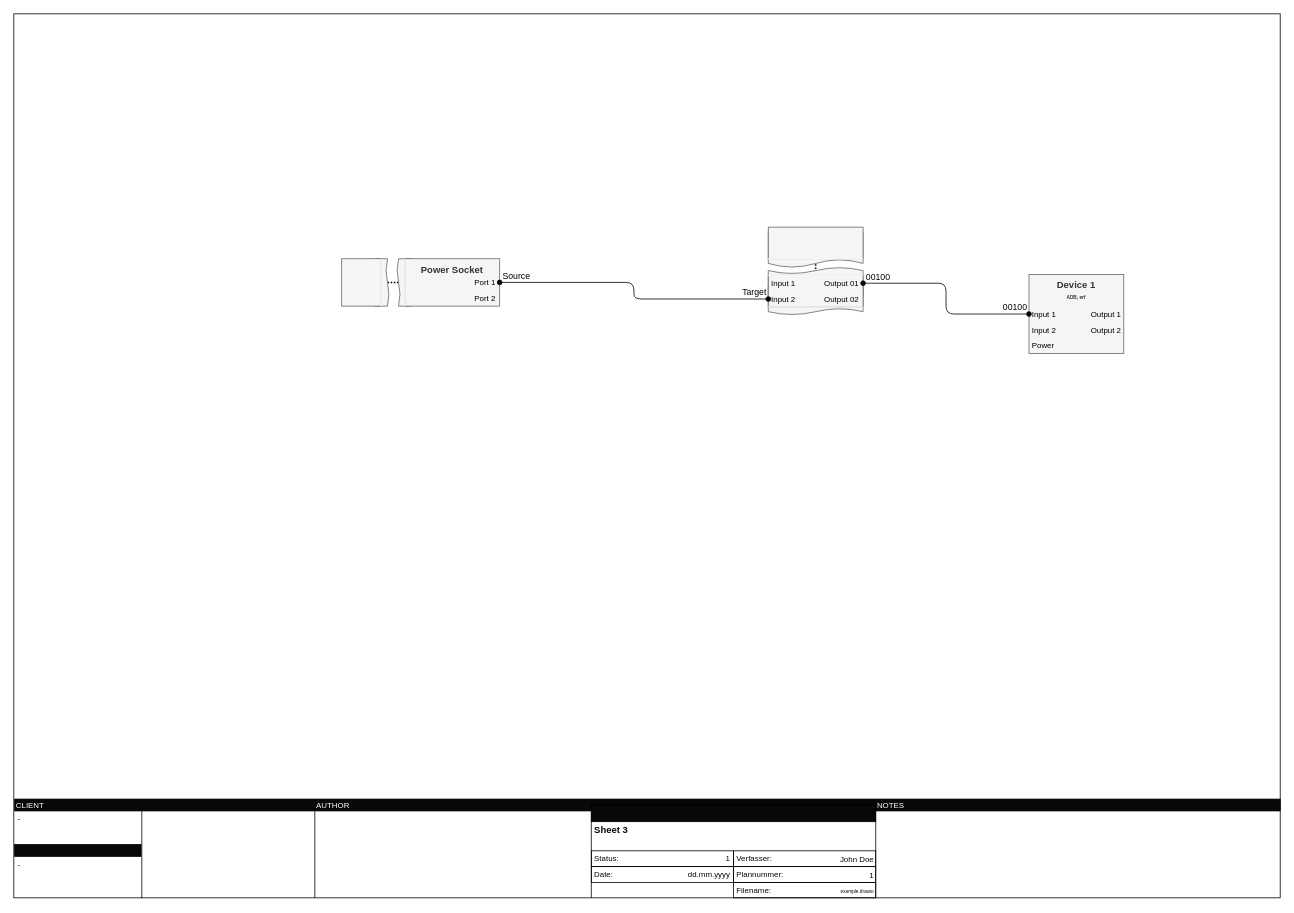
The diagram is 1294 pixels wide and 913 high, and some of its shapes have lost their labels. Each missing label, with the centre of its shape:
"Device 2 werq, lkj" goes at point (815, 242).
"ELCB 12fd" goes at point (361, 282).
"Example" goes at point (733, 813).
